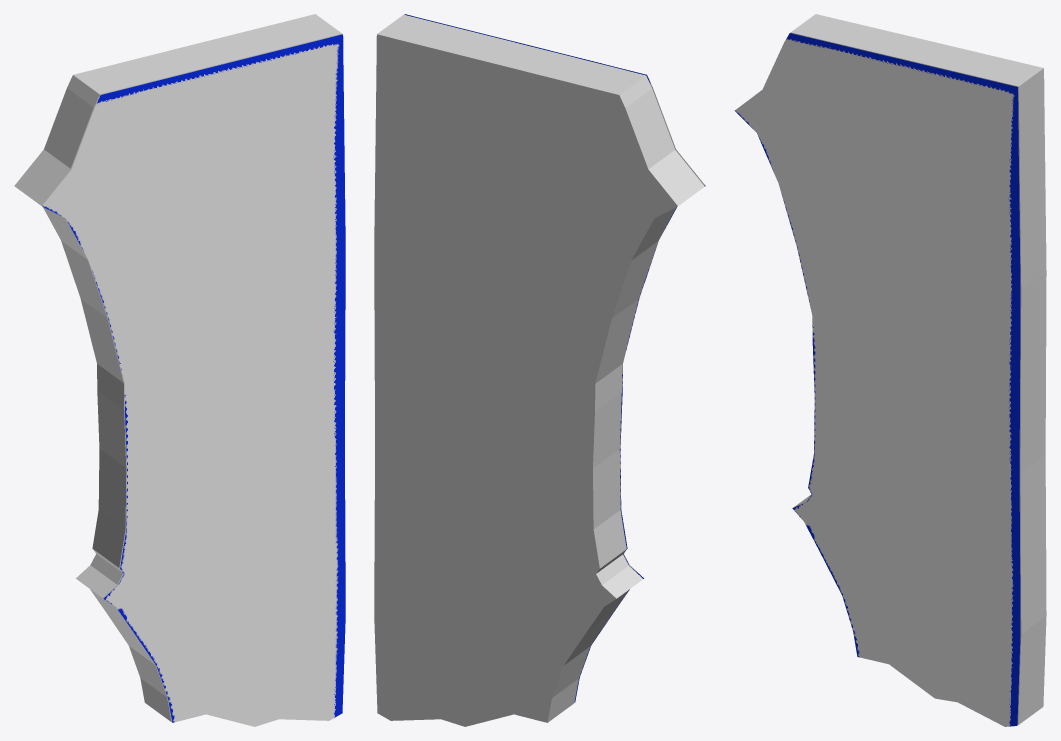
3 renders of one model, left to right at view 1: azimuth 30°, elevation 25°; view 2: azimuth 150°, elevation 25°; view 3: azimuth 330°, elevation 25°, orthographic. The views are drawn at different scales.
Parts seen in each view (by area): view 1: Out_3_1, Out_3_0; view 2: Out_3_0, Out_3_1; view 3: Out_3_1, Out_3_0.
Part boxes in pixels (box(x1,y1,x2,y2)): Out_3_1: box(42, 34, 345, 726); Out_3_0: box(14, 14, 341, 722); Out_3_0: box(374, 14, 704, 726); Out_3_1: box(404, 14, 705, 702); Out_3_1: box(734, 33, 1020, 726); Out_3_0: box(790, 14, 1046, 725).
Size of the model in its own units: 3.27 by 7.02 by 0.515.
Materials: 2 (1 with a texture image).
